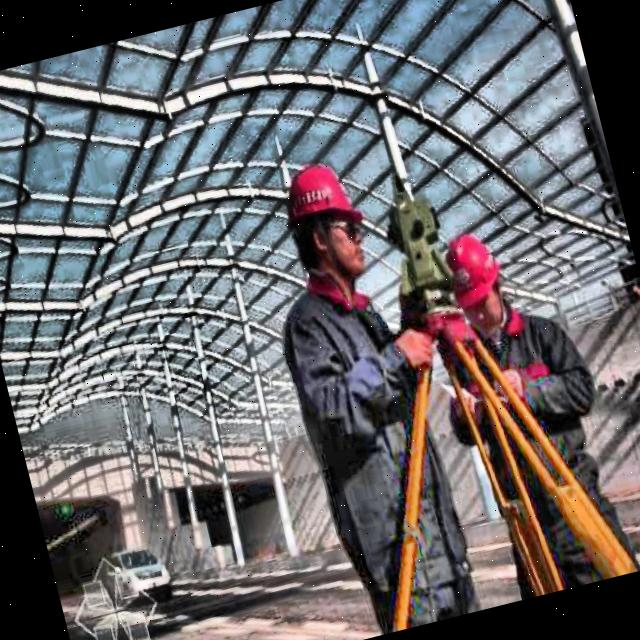helmet: (270, 150, 382, 300), (434, 220, 520, 345)
